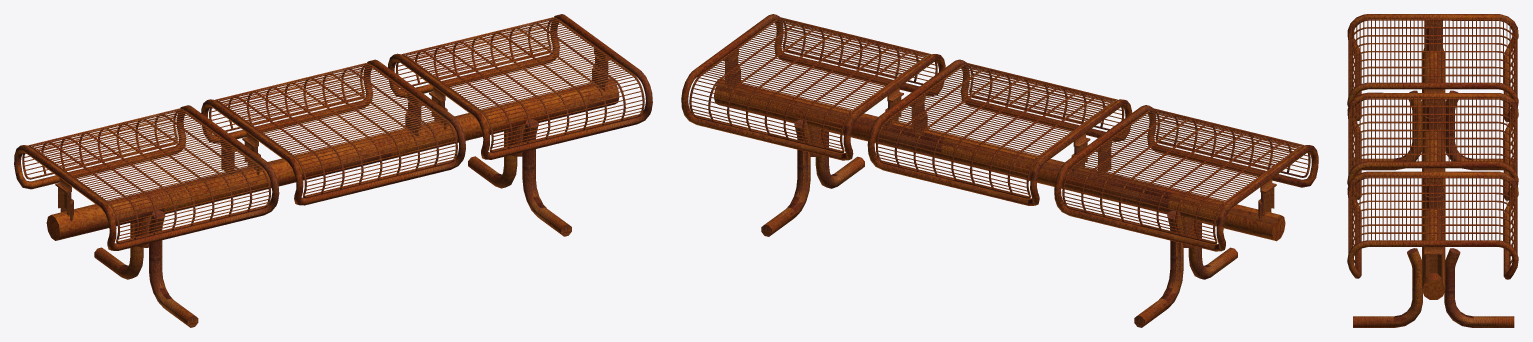
The picture shows the model from 3 angles, left to right: view 1: azimuth 30°, elevation 25°; view 2: azimuth 150°, elevation 25°; view 3: azimuth 270°, elevation 25°; orthographic projection. The views are drawn at different scales.
Parts seen in each view (by area): view 1: mesh1_mesh1-geometry, mesh9_mesh9-geometry, mesh22_mesh22-geometry, mesh8_mesh8-geometry, mesh12_mesh12-geometry, mesh18_mesh18-geometry, mesh20_mesh20-geometry, mesh4_mesh4-geometry, mesh10_mesh10-geometry, mesh6_mesh6-geometry, mesh15_mesh15-geometry; view 2: mesh1_mesh1-geometry, mesh9_mesh9-geometry, mesh22_mesh22-geometry, mesh8_mesh8-geometry, mesh12_mesh12-geometry, mesh18_mesh18-geometry, mesh20_mesh20-geometry, mesh4_mesh4-geometry, mesh10_mesh10-geometry, mesh6_mesh6-geometry, mesh15_mesh15-geometry; view 3: mesh1_mesh1-geometry, mesh9_mesh9-geometry, mesh8_mesh8-geometry, mesh12_mesh12-geometry, mesh22_mesh22-geometry, mesh18_mesh18-geometry, mesh4_mesh4-geometry, mesh6_mesh6-geometry, mesh10_mesh10-geometry.
Part boxes in pixels (x1,y1,x2,y2): mesh1_mesh1-geometry: (24, 17, 644, 241); mesh9_mesh9-geometry: (14, 14, 652, 250); mesh22_mesh22-geometry: (46, 78, 619, 240); mesh8_mesh8-geometry: (41, 23, 625, 239); mesh12_mesh12-geometry: (94, 119, 571, 327); mesh18_mesh18-geometry: (22, 55, 564, 243); mesh20_mesh20-geometry: (103, 18, 644, 225); mesh4_mesh4-geometry: (58, 55, 608, 215); mesh10_mesh10-geometry: (55, 49, 609, 193); mesh6_mesh6-geometry: (60, 66, 605, 220); mesh15_mesh15-geometry: (134, 123, 525, 247); mesh1_mesh1-geometry: (689, 17, 1308, 242); mesh9_mesh9-geometry: (681, 14, 1318, 251); mesh22_mesh22-geometry: (714, 79, 1285, 241); mesh8_mesh8-geometry: (708, 23, 1291, 240); mesh12_mesh12-geometry: (761, 119, 1237, 327); mesh18_mesh18-geometry: (769, 55, 1310, 244); mesh20_mesh20-geometry: (689, 18, 1230, 226); mesh4_mesh4-geometry: (725, 56, 1274, 215); mesh10_mesh10-geometry: (723, 49, 1276, 193); mesh6_mesh6-geometry: (727, 67, 1271, 221); mesh15_mesh15-geometry: (807, 123, 1197, 247); mesh1_mesh1-geometry: (1348, 18, 1517, 253); mesh9_mesh9-geometry: (1347, 14, 1518, 279); mesh8_mesh8-geometry: (1350, 27, 1515, 264); mesh12_mesh12-geometry: (1353, 90, 1514, 327); mesh22_mesh22-geometry: (1422, 48, 1445, 299); mesh18_mesh18-geometry: (1350, 19, 1515, 239); mesh4_mesh4-geometry: (1424, 28, 1442, 274); mesh6_mesh6-geometry: (1424, 37, 1442, 277); mesh10_mesh10-geometry: (1424, 20, 1442, 254).
Bounding box in the file's own units: 0.9322 × 0.2217 × 0.2861.
